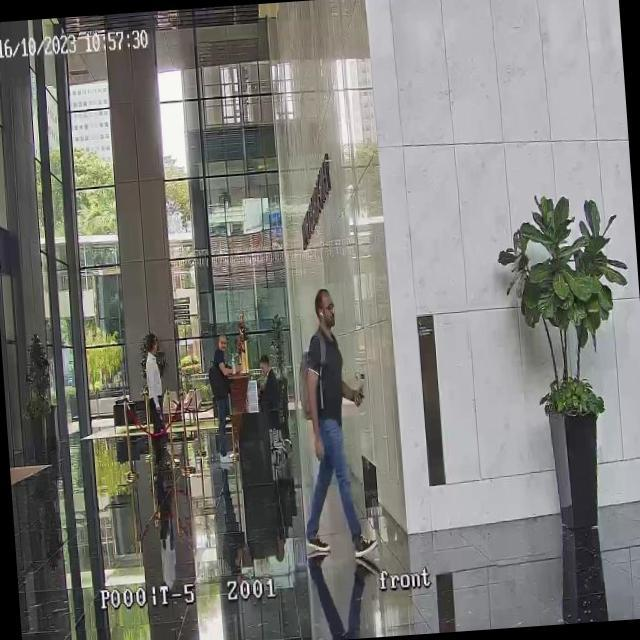person: (288, 286, 377, 560), (207, 332, 240, 462), (142, 332, 170, 469), (258, 352, 280, 411)
